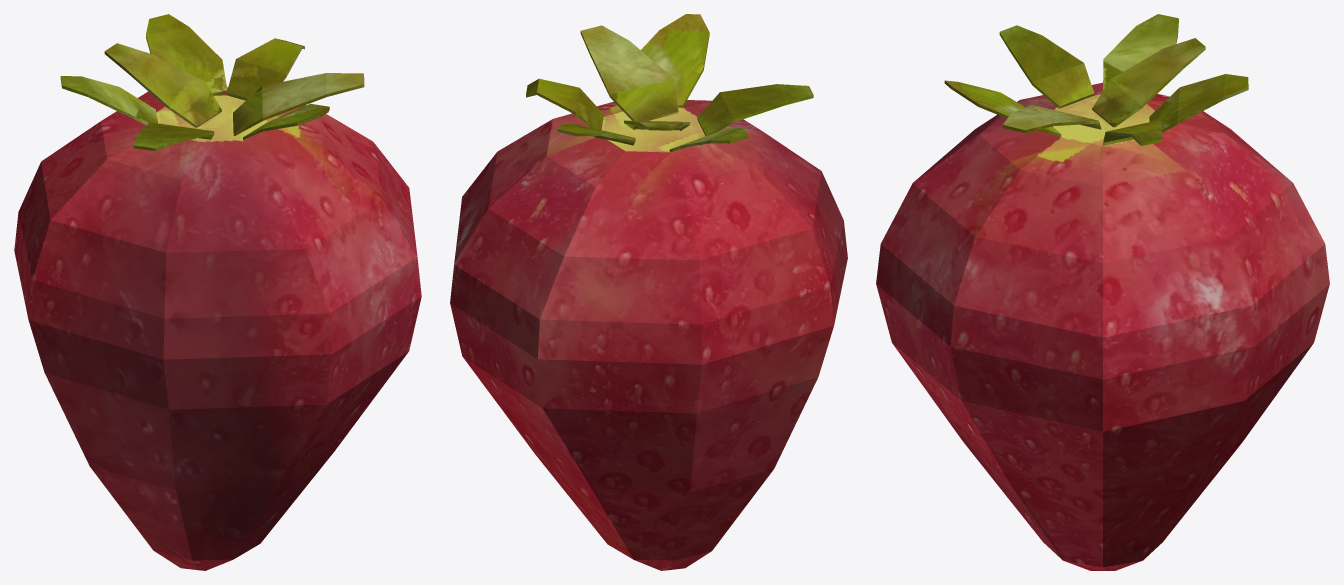
Rendered from strawberry.glb.
3 renders of one model, left to right at view 1: azimuth 30°, elevation 25°; view 2: azimuth 150°, elevation 25°; view 3: azimuth 270°, elevation 25°, orthographic. The views are drawn at different scales.
Visible parts, largest first — view 1: Strawberry; view 2: Strawberry; view 3: Strawberry.
Part boxes in pixels (left/top/right/bottom): Strawberry: left=14, top=14, right=421, bottom=570; Strawberry: left=450, top=14, right=847, bottom=570; Strawberry: left=876, top=14, right=1329, bottom=570.
Size of the model in its own units: 0.3797 by 0.4669 by 0.3797.
Materials: 1 (1 with a texture image).
